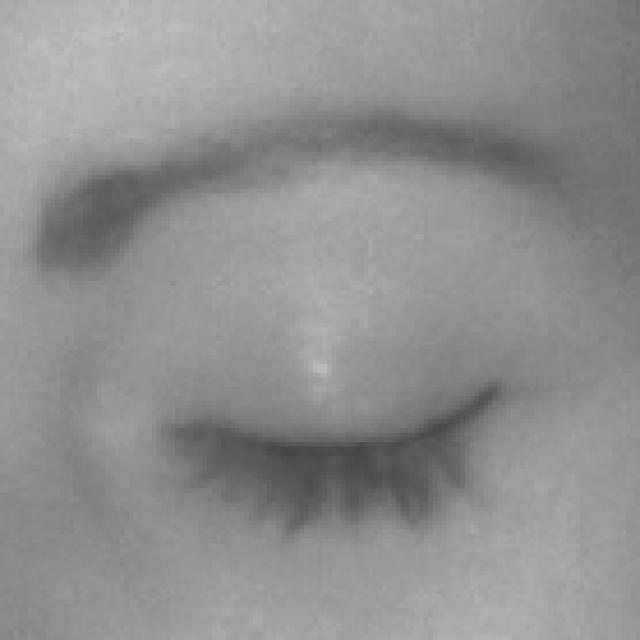Eyeclosed: (158, 285, 508, 634)
